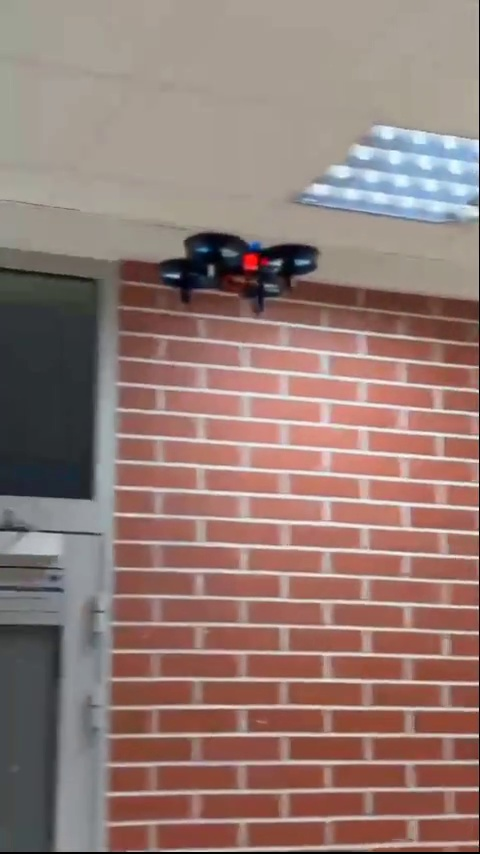drone: (165, 229, 318, 309)
